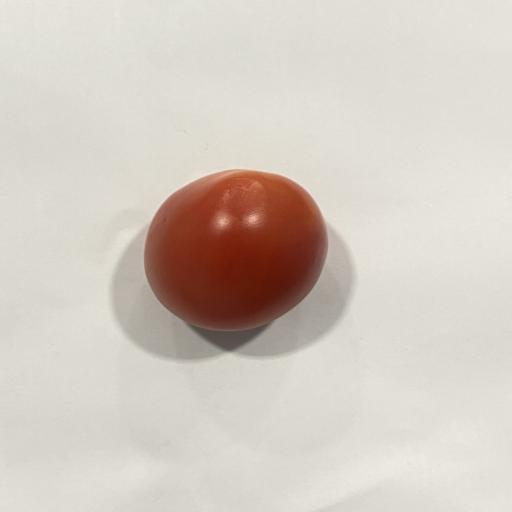ripe: (144, 170, 327, 331)
